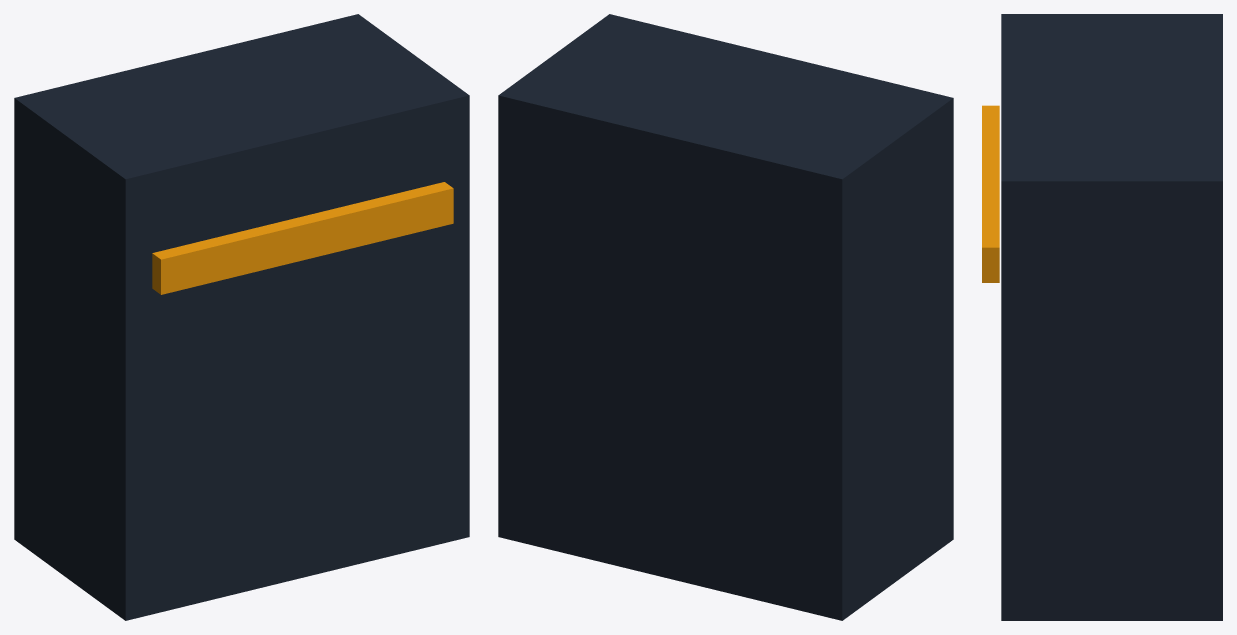
Rendered from shoals-bla.glb.
3 renders of one model, left to right at view 1: azimuth 30°, elevation 25°; view 2: azimuth 150°, elevation 25°; view 3: azimuth 270°, elevation 25°, orthographic.
Size of the model in its own units: 0.75 by 0.92 by 0.4568.
